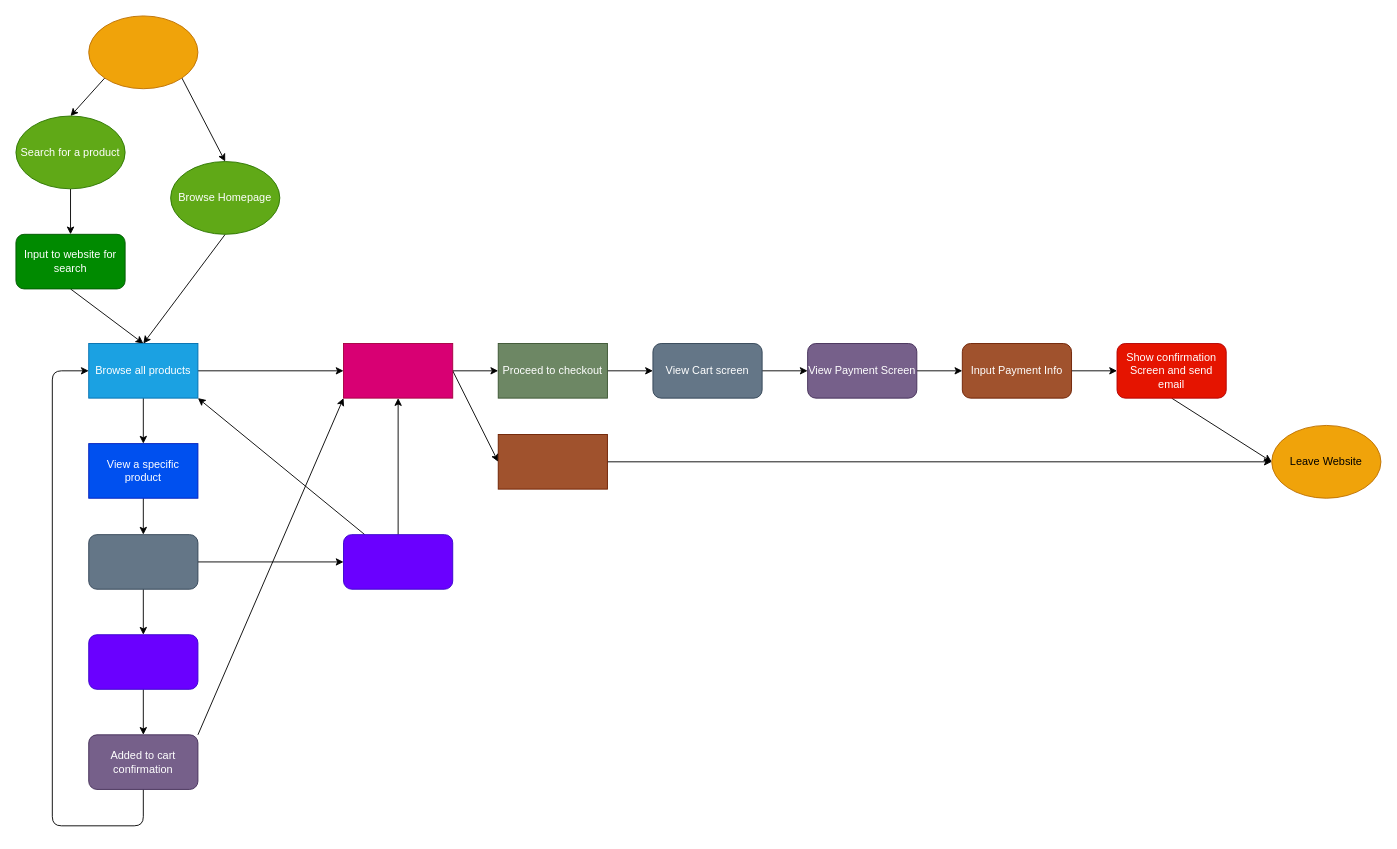
The diagram is 1397 pixels wide and 849 high, and some of its shapes have lost their labels. Here are the shapes that lost their labels. From the top down, the centre of each, then its label:
At [143,52]: "Enter Webpage".
At [398,370]: "End product search".
At [552,461]: "No Checkout".
At [143,561]: "Project webpage opens".
At [398,561]: "Do not add to cart".
At [143,661]: "Add to cart".
